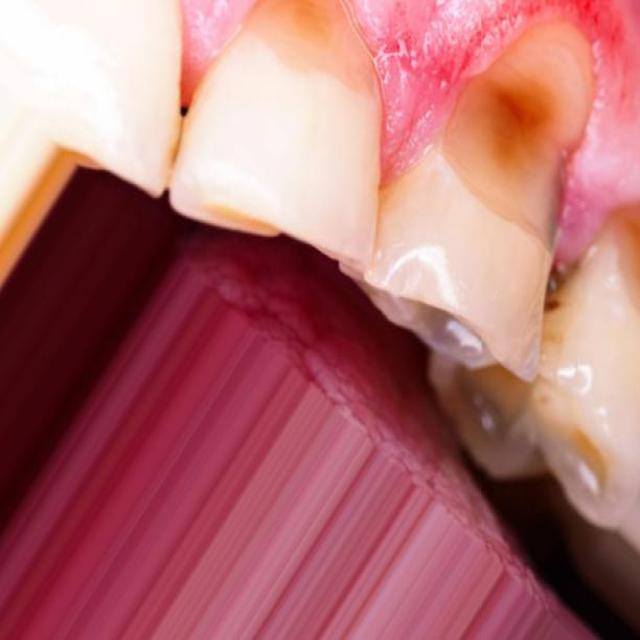caries: (445, 18, 592, 247), (239, 0, 381, 109)
